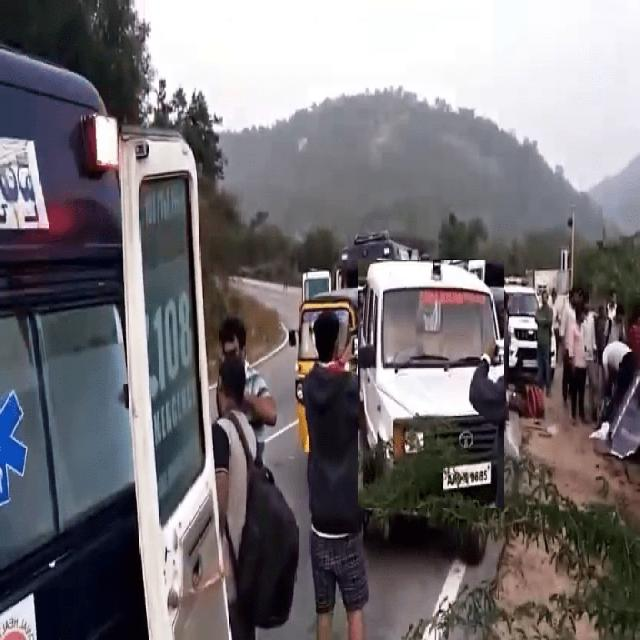autorickshaw: (295, 286, 371, 452)
car: (358, 260, 504, 508), (501, 286, 539, 372)
